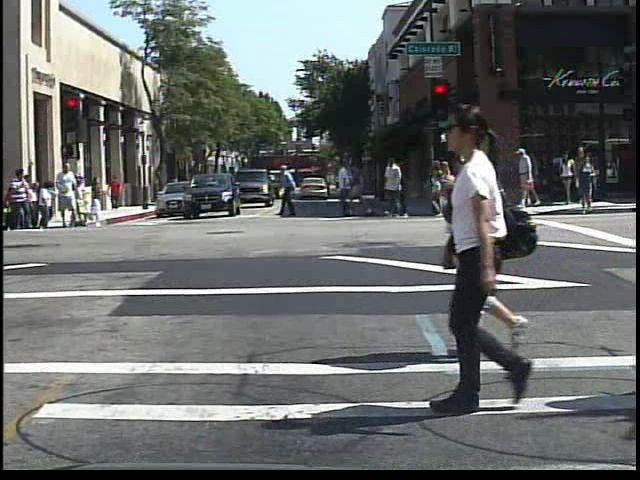person: (428, 105, 553, 417), (424, 115, 514, 357), (54, 162, 84, 231), (9, 164, 33, 234), (518, 144, 539, 209), (106, 175, 126, 213), (167, 172, 185, 204)
